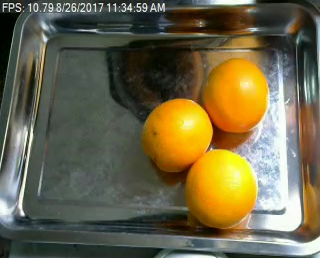Orange: (186, 148, 261, 228), (141, 97, 213, 171), (202, 57, 270, 133)
